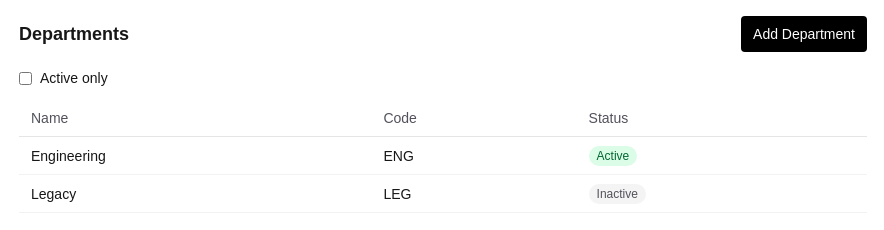
Test: DepartmentsListPage › UT05: shows only active departments when the Active only filter is toggled
expect the text "Legacy" is shown: met, box [19, 174, 371, 212]
Click the checkbox labelled "Active only": (26, 78) [19, 72, 32, 84]
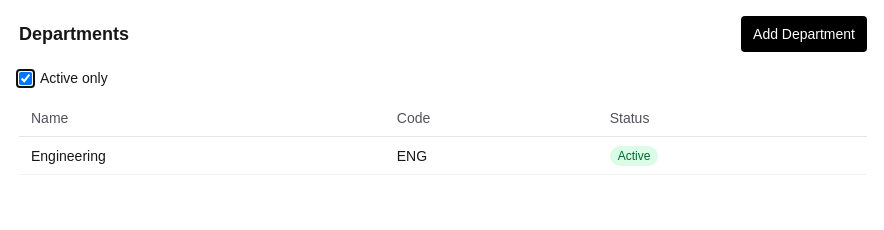
expect the text "Engineering" is shown: met, box [19, 136, 385, 174]
expect the text "Legacy" is gone: met
